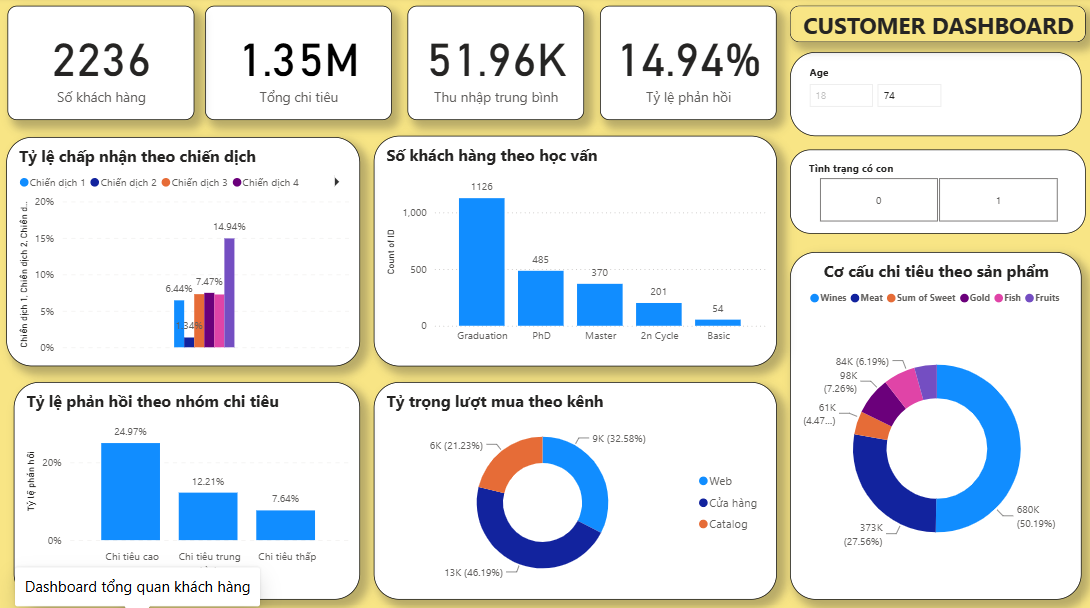

Layout of this report page (visuals, bound fields, positions):
{"tool":"powerbi","page":{"name":"Dashboard tổng quan khách hàng","canvas":[1280,720],"ordinal":0},"visuals":[{"type":"card","fields":{"Values":["Sum(Marketing_end.Spent)"]},"box":[239.4,10.6,218.2,133.3],"z":0},{"type":"card","fields":{"Values":["Count(Marketing_end.ID)"]},"box":[9.1,10.6,218.2,133.3],"z":1000},{"type":"card","fields":{"Values":["Avg(Marketing_end.Income)"]},"box":[475.8,10.6,206.1,133.3],"z":2000},{"type":"donutChart","title":"Tỷ trọng lượt mua theo kênh","fields":{"Y":["Sum(Marketing_end.NumWebPurchases)","Sum(Marketing_end.NumStorePurchases)","Sum(Marketing_end.NumCatalogPurchases)"]},"box":[436.4,450,471.2,254.5],"z":3000},{"type":"donutChart","title":"Cơ cấu chi tiêu theo sản phẩm","fields":{"Y":["Sum(Marketing_end.Wines)","Sum(Marketing_end.Meat)","Sum(Marketing_end.Sweet)","Sum(Marketing_end.Gold)","Sum(Marketing_end.Fish)","Sum(Marketing_end.Fruits)"]},"box":[922.7,298.5,340.9,406.1],"z":4000},{"type":"clusteredColumnChart","title":"Số khách hàng theo học vấn","fields":{"Category":["Marketing_end.Education"],"Y":["Count(Marketing_end.ID)"]},"box":[436.4,162.1,471.2,269.7],"z":7000},{"type":"slicer","fields":{"Values":["Marketing_end.Age"]},"box":[922.7,63.6,340.9,98.5],"z":9000},{"type":"slicer","fields":{"Values":["Marketing_end.Is_Parent"]},"box":[922.7,178.8,345.5,98.5],"z":10000},{"type":"textbox","title":"CUSTOMER DASHBOARD","box":[923.3,10,345.5,42.4],"z":11000},{"type":"clusteredColumnChart","title":"Tỷ lệ phản hồi theo nhóm chi tiêu","fields":{"Category":["Marketing_end.Spending_Group"],"Y":["Marketing_end.Tỷ lệ phản hồi"]},"box":[16,450,405,254],"z":12000},{"type":"card","fields":{"Values":["Marketing_end.Tỷ lệ phản hồi"]},"box":[701.5,10.6,206.1,133.3],"z":13000},{"type":"clusteredColumnChart","title":"Tỷ lệ chấp nhận theo chiến dịch","fields":{"Y":["Avg(Marketing_end.AcceptedCmp1)","Avg(Marketing_end.AcceptedCmp2)","Avg(Marketing_end.AcceptedCmp3)","Avg(Marketing_end.AcceptedCmp4)","Avg(Marketing_end.AcceptedCmp5)","Avg(Marketing_end.Response)"]},"box":[7.6,163.6,413.6,268.2],"z":13001}]}

Visuals, with their boxes in screenshot pixels (x1, y1, x2, y2), scaled from the page's 1280x720 canvas onto the 1090x608 screenshot:
card - Sum(Marketing_end.Spent): [x1=204, y1=9, x2=390, y2=122]
card - Count(Marketing_end.ID): [x1=8, y1=9, x2=194, y2=122]
card - Avg(Marketing_end.Income): [x1=405, y1=9, x2=581, y2=122]
"Tỷ trọng lượt mua theo kênh" donutChart: [x1=372, y1=380, x2=773, y2=595]
"Cơ cấu chi tiêu theo sản phẩm" donutChart: [x1=786, y1=252, x2=1076, y2=595]
"Số khách hàng theo học vấn" clusteredColumnChart: [x1=372, y1=137, x2=773, y2=365]
slicer - Marketing_end.Age: [x1=786, y1=54, x2=1076, y2=137]
slicer - Marketing_end.Is_Parent: [x1=786, y1=151, x2=1080, y2=234]
"CUSTOMER DASHBOARD" textbox: [x1=786, y1=8, x2=1080, y2=44]
"Tỷ lệ phản hồi theo nhóm chi tiêu" clusteredColumnChart: [x1=14, y1=380, x2=359, y2=594]
card - Marketing_end.Tỷ lệ phản hồi: [x1=597, y1=9, x2=773, y2=122]
"Tỷ lệ chấp nhận theo chiến dịch" clusteredColumnChart: [x1=6, y1=138, x2=359, y2=365]
